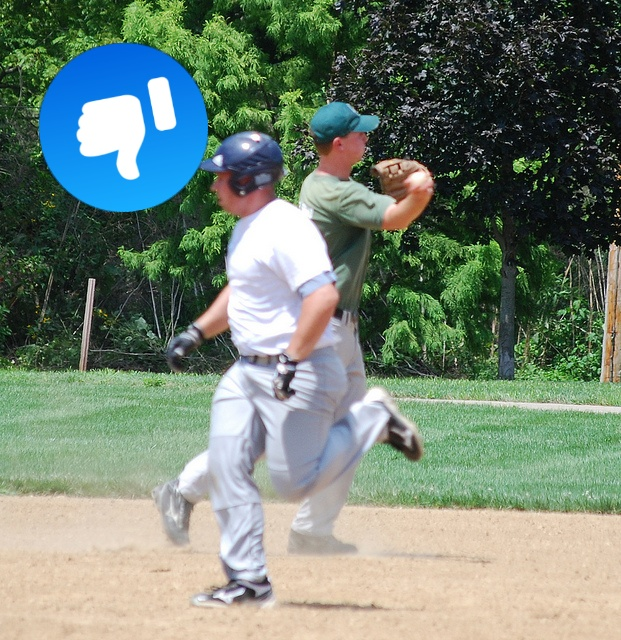like: (39, 43, 208, 212)
